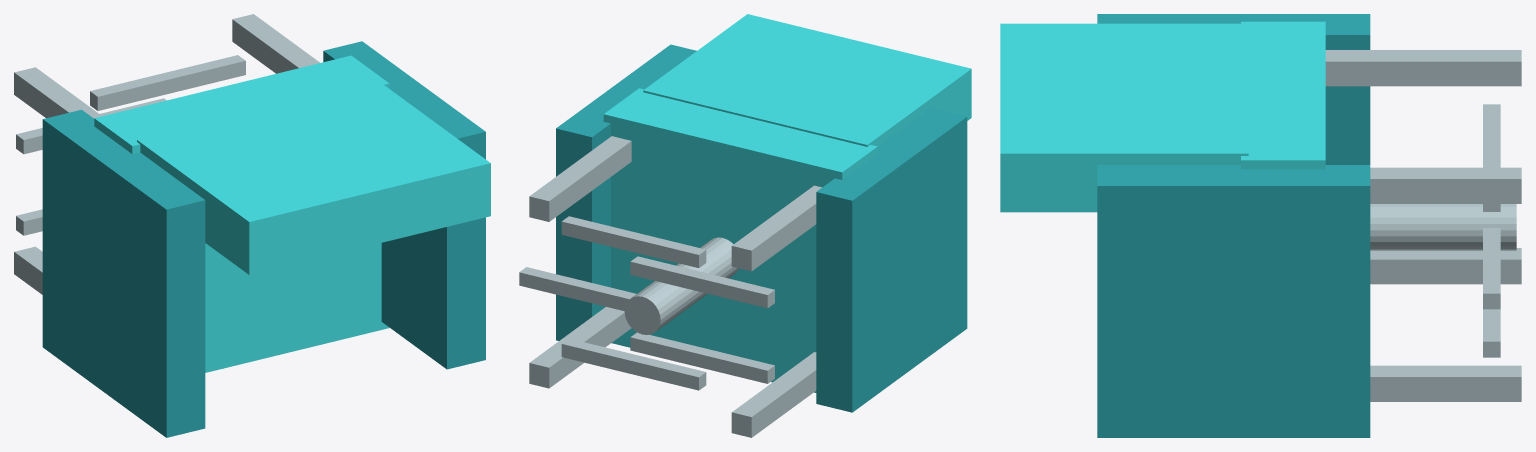
The model's file is office-chair.glb.
The picture shows the model from 3 angles, left to right: view 1: azimuth 30°, elevation 25°; view 2: azimuth 150°, elevation 25°; view 3: azimuth 270°, elevation 25°; orthographic projection. The views are drawn at different scales.
Visible parts, largest first — view 1: world; view 2: world; view 3: world.
Boxes of the visible parts, left/top/right/bottom form: world: left=14, top=14, right=490, bottom=437; world: left=519, top=14, right=971, bottom=437; world: left=1000, top=14, right=1521, bottom=437.
Size of the model in its own units: 0.82 by 0.605 by 1.05.
